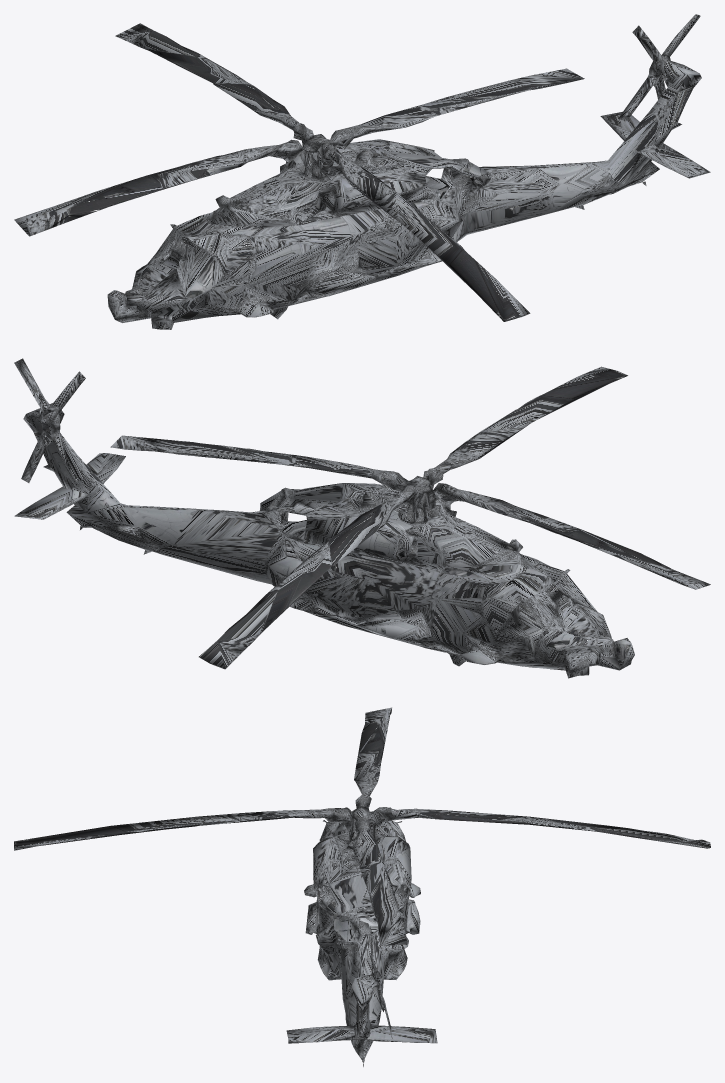
File: mh-60r-seahawk-meshy6-web-wingman-v1.glb
The picture shows the model from 3 angles, top to bottom: view 1: azimuth 30°, elevation 25°; view 2: azimuth 150°, elevation 25°; view 3: azimuth 270°, elevation 25°; orthographic projection. The views are drawn at different scales.
Bounding box in the file's own units: 1.89 × 0.5019 × 1.9.
1 material, 1 textured.
